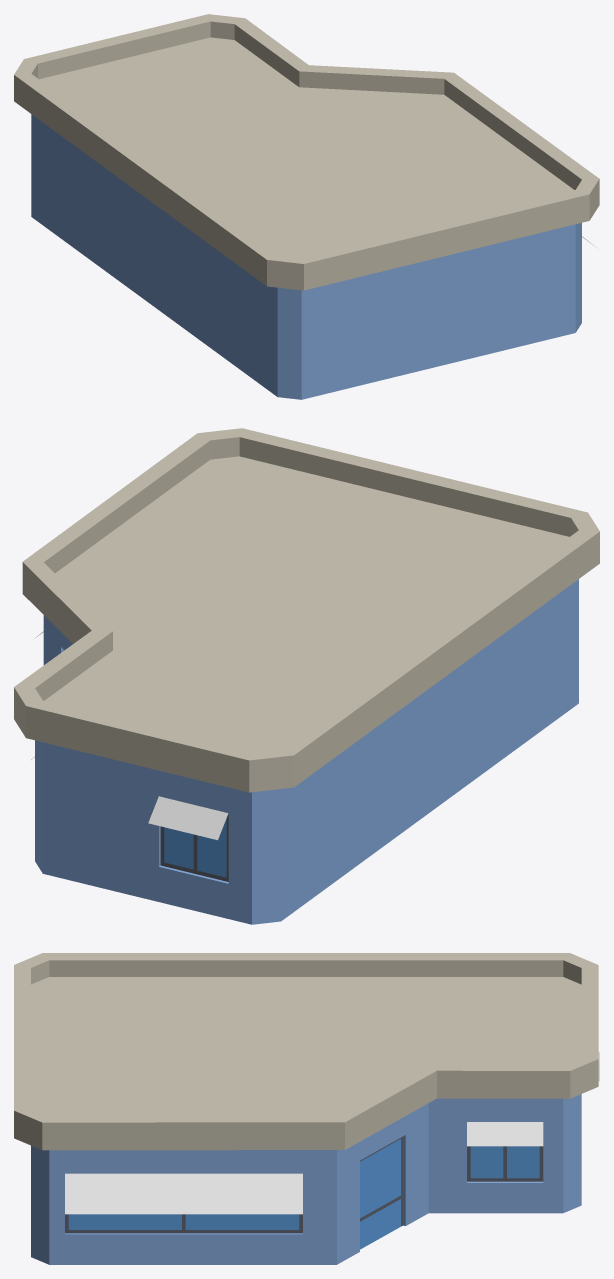
Rendered from cafe_b2.fbx.
The picture shows the model from 3 angles, top to bottom: view 1: azimuth 30°, elevation 25°; view 2: azimuth 150°, elevation 25°; view 3: azimuth 270°, elevation 25°; orthographic projection. The views are drawn at different scales.
Parts seen in each view (by area): view 1: Cafe2.001; view 2: Cafe2.001; view 3: Cafe2.001.
Boxes of the visible parts, box(x1,y1,x2,y2) form: Cafe2.001: box(14, 14, 599, 399); Cafe2.001: box(14, 428, 599, 924); Cafe2.001: box(14, 953, 599, 1264).
Size of the model in its own units: 6777 by 2696 by 9577.
